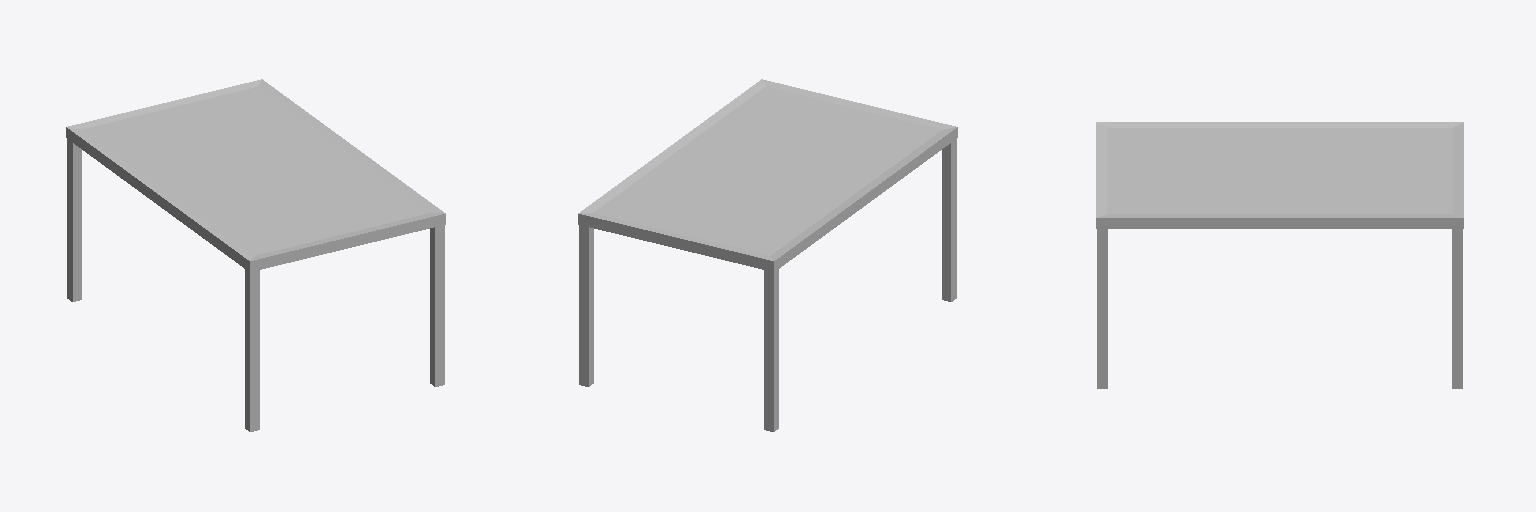
Rendered from table.obj.
3 renders of one model, left to right at view 1: azimuth 30°, elevation 25°; view 2: azimuth 150°, elevation 25°; view 3: azimuth 270°, elevation 25°, orthographic.
Parts seen in each view (by area): view 1: Cube.001; view 2: Cube.001; view 3: Cube.001.
Part boxes in pixels (x1,y1,x2,y2): Cube.001: (66, 79, 445, 431); Cube.001: (578, 79, 957, 431); Cube.001: (1096, 122, 1463, 388).
Bounding box in the file's own units: 8.14 × 6.81 × 13.22.